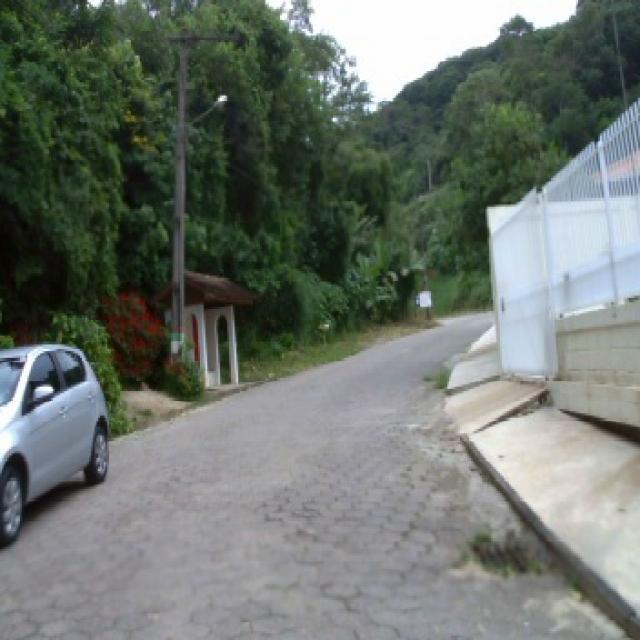Poth-hole: (462, 529, 538, 578)
